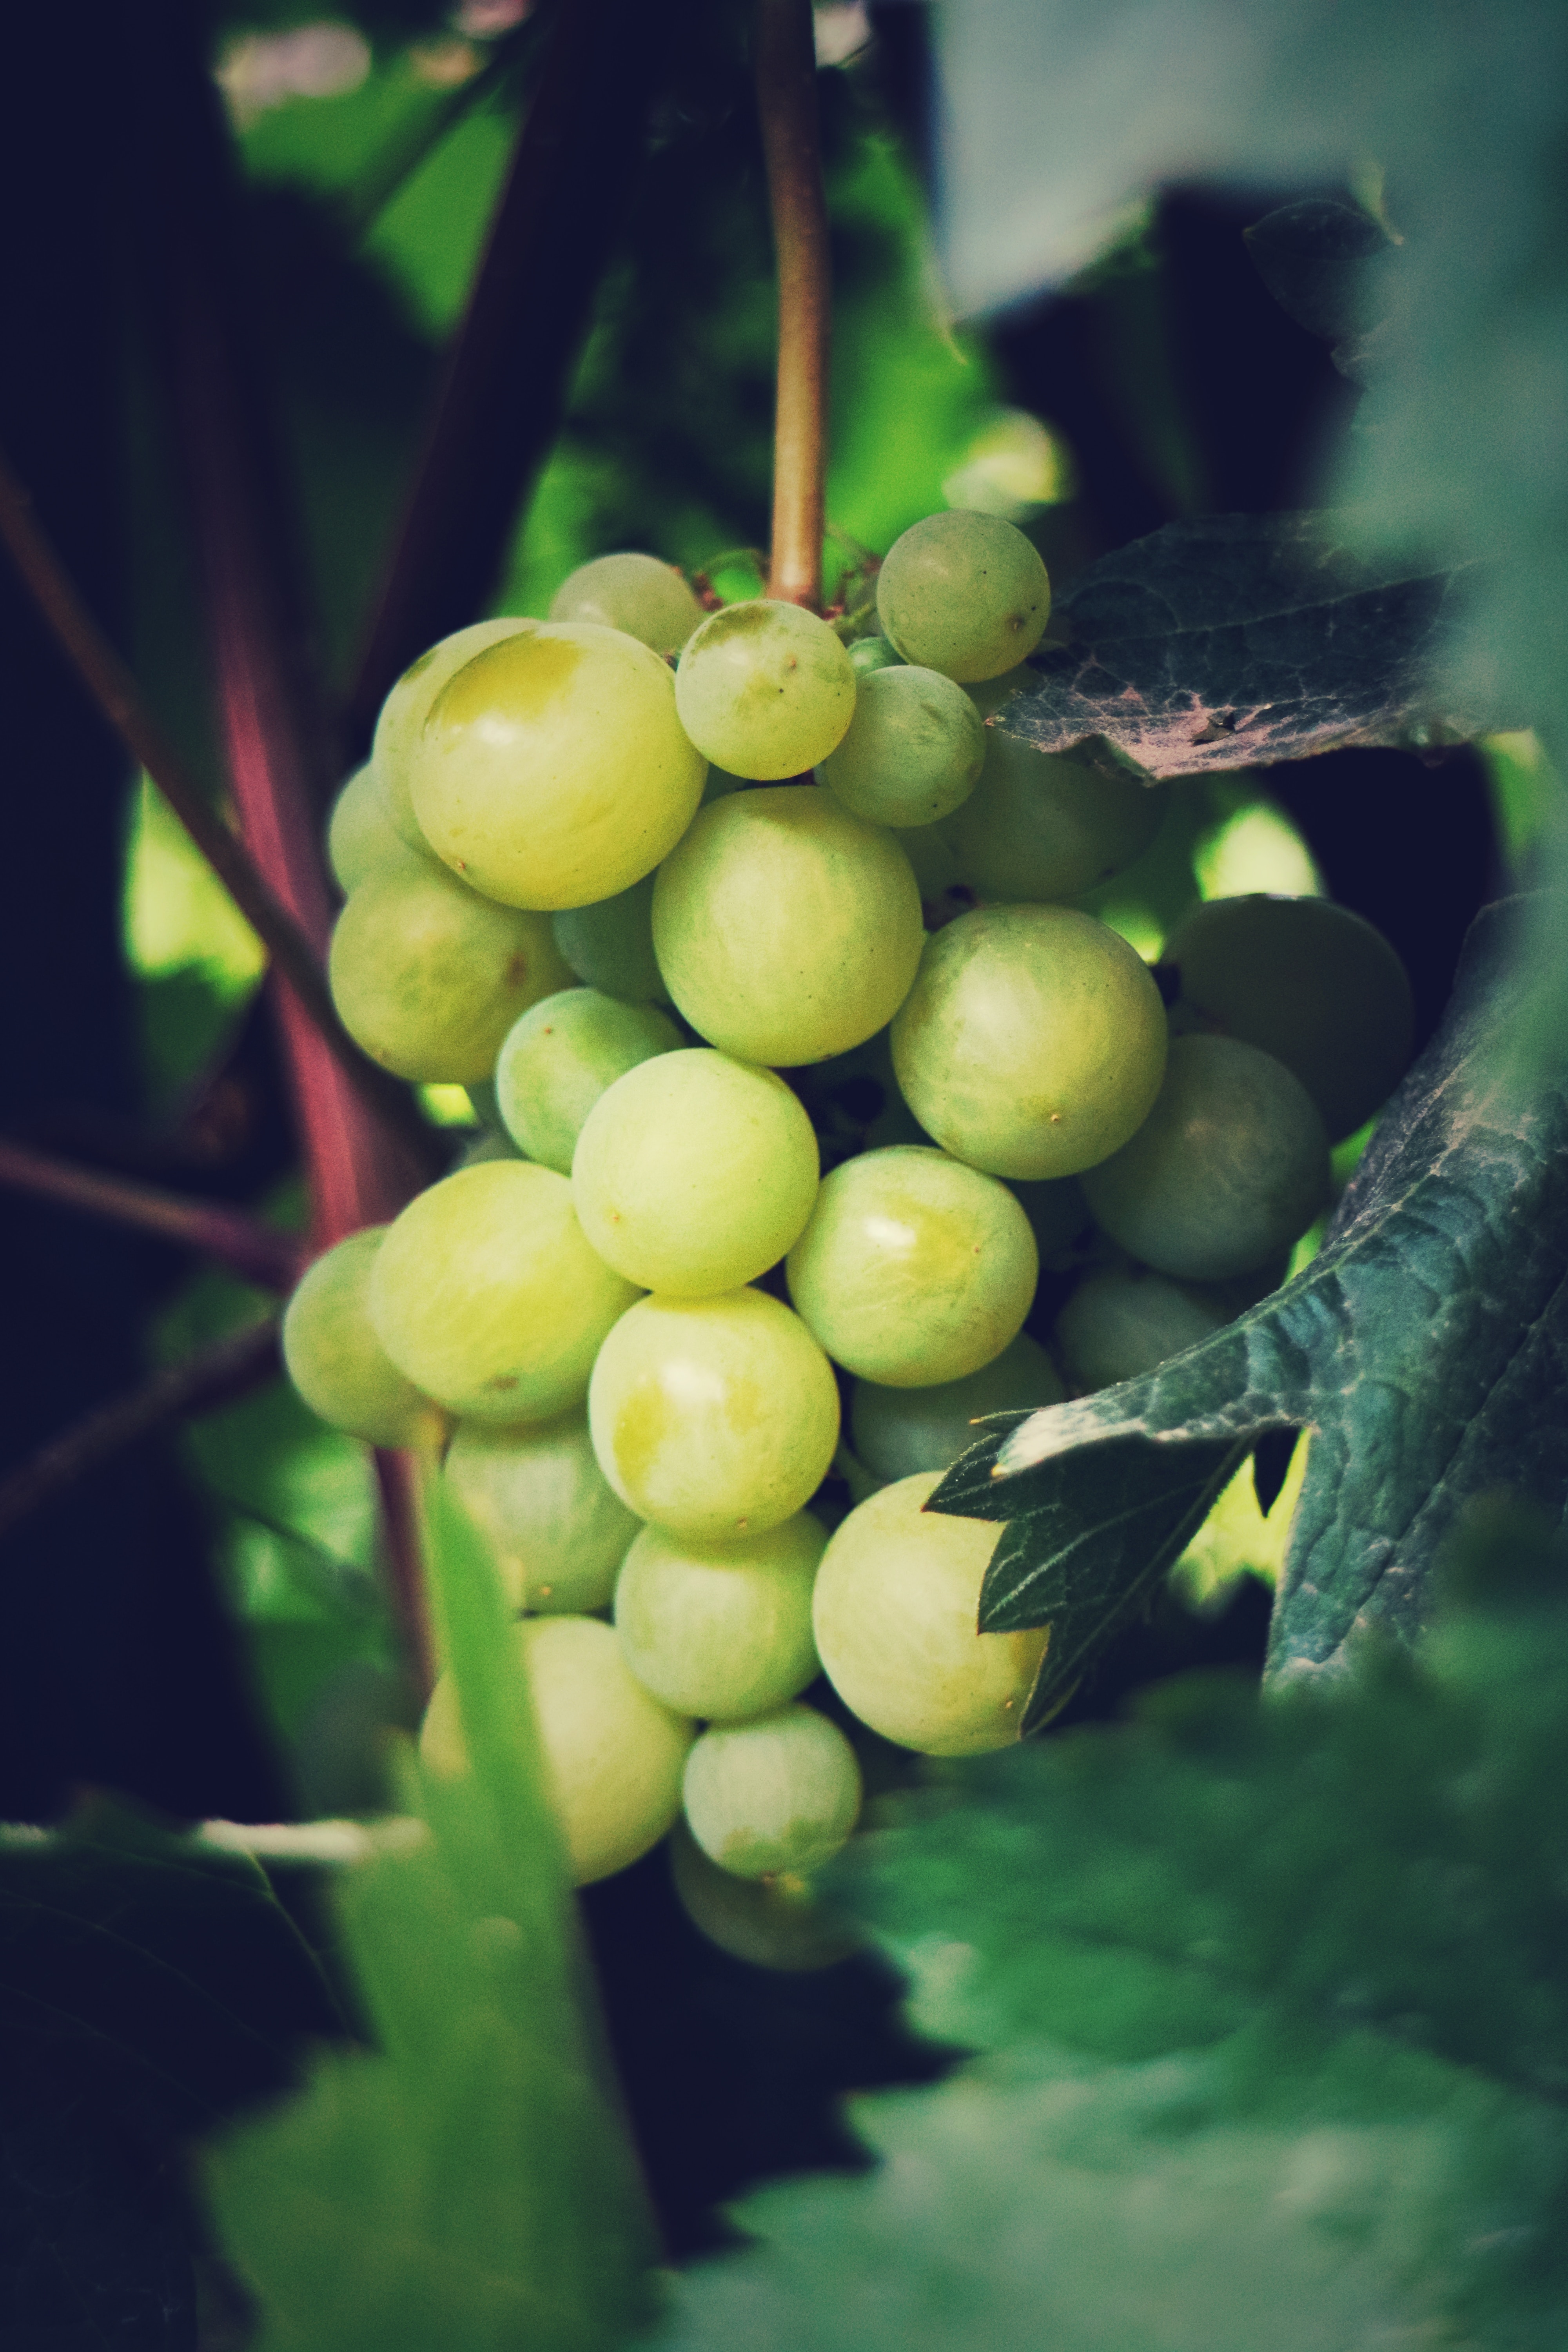healthy: (415, 1652, 691, 1895), (420, 626, 663, 901), (898, 901, 1136, 1178), (840, 1488, 1102, 1726), (667, 795, 926, 1025), (592, 1302, 835, 1528), (390, 1153, 609, 1400), (567, 1067, 810, 1284), (1190, 898, 1424, 1120), (807, 1153, 1017, 1360), (317, 886, 527, 1087), (445, 1437, 625, 1636), (612, 1533, 798, 1710), (670, 585, 840, 766), (873, 506, 1074, 654), (703, 1722, 873, 1874), (292, 1248, 402, 1412), (852, 667, 996, 779)
